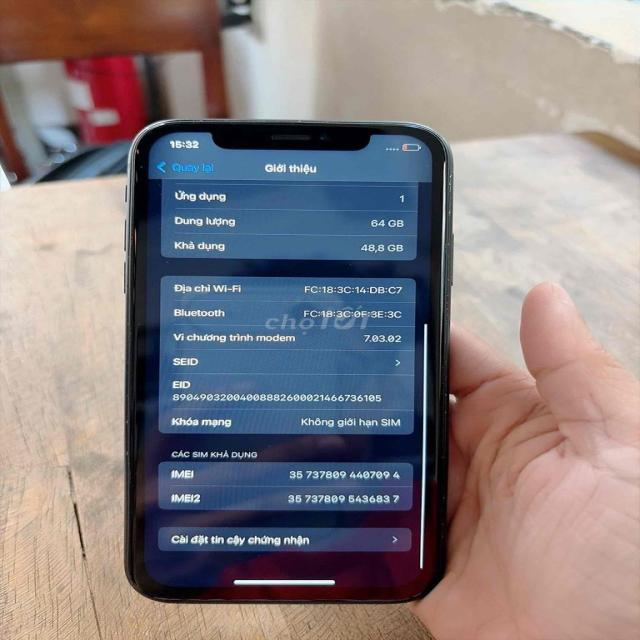scratch: (430, 293, 464, 455), (427, 163, 463, 300)
